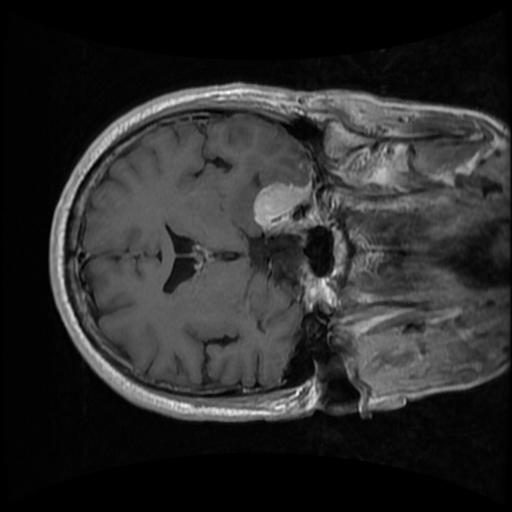meningioma: (250, 181, 312, 234)
